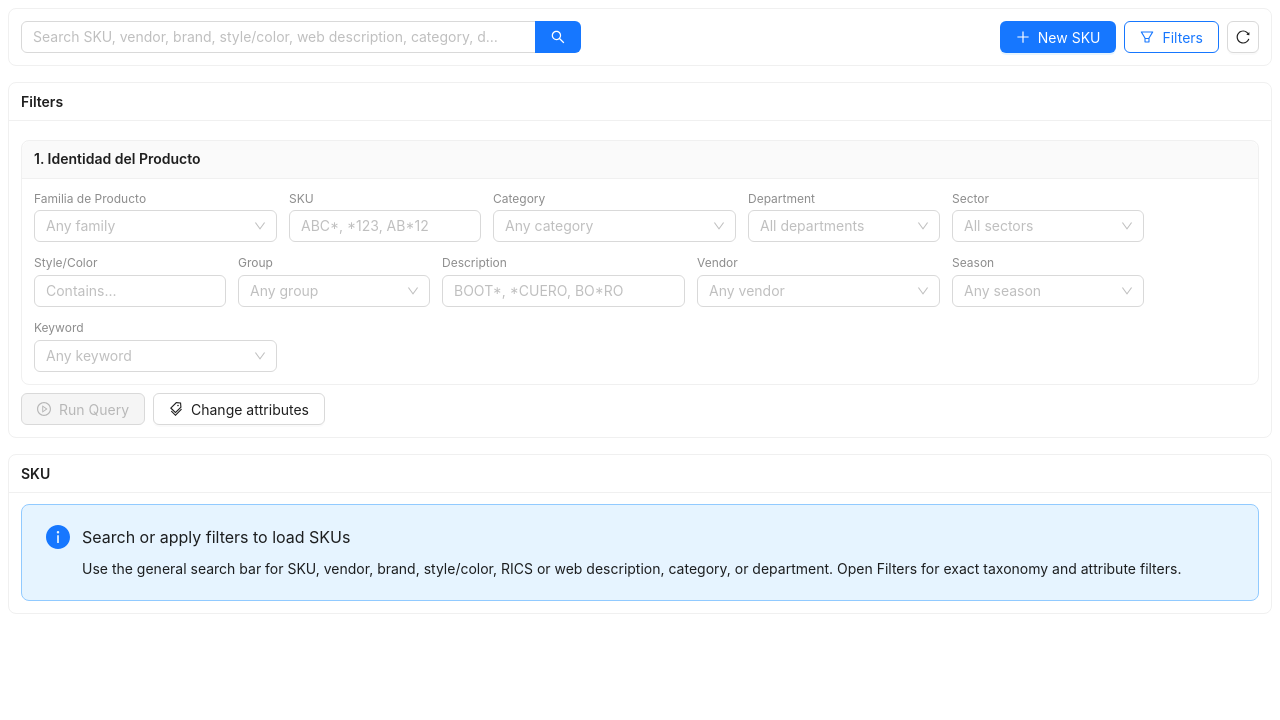
Test: SkuListPage bulk mode › shows query actions and selected-filter pills in the filter footer
The width and height of the screenshot is (1280, 720).
Expected: the button "Run Query" is shown, [21,393,145,425]
Step 1. Type "AB*12" into the field with placeholder "ABC*, *123, AB*12" → (377, 226), box [301,215,453,237]
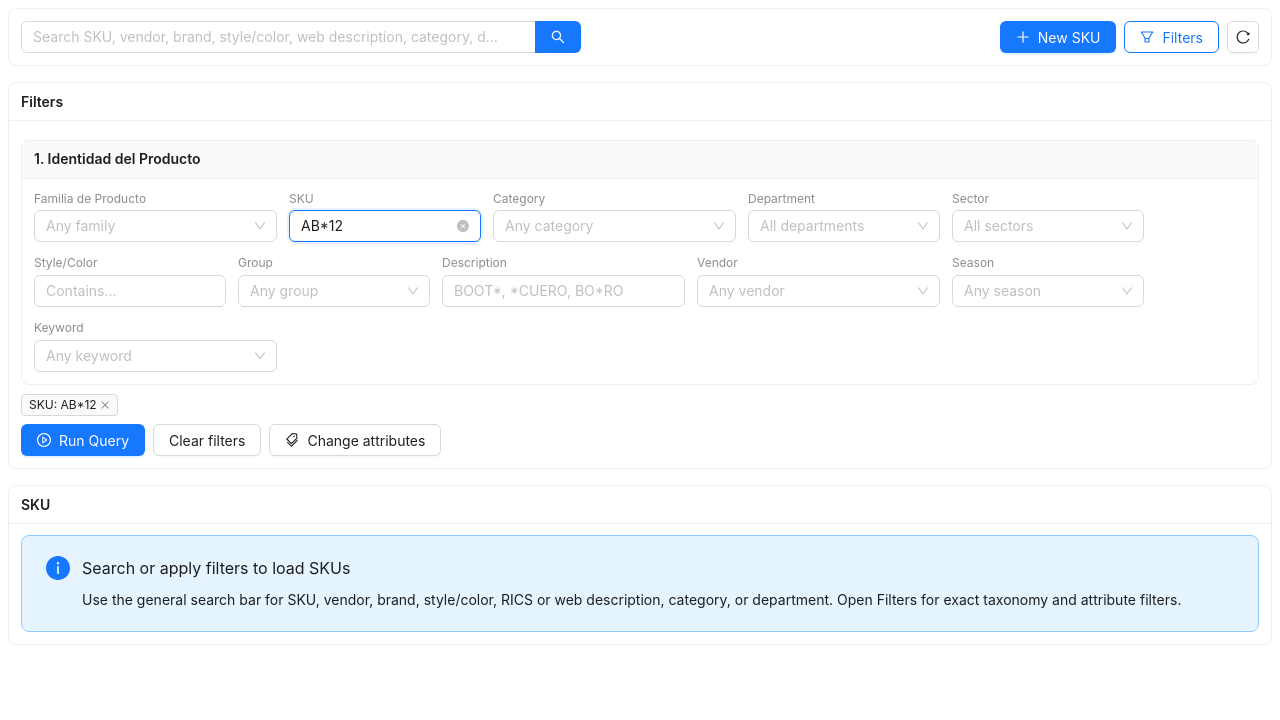
Now the text "SKU: AB*12" is shown, box [21,394,118,416]
